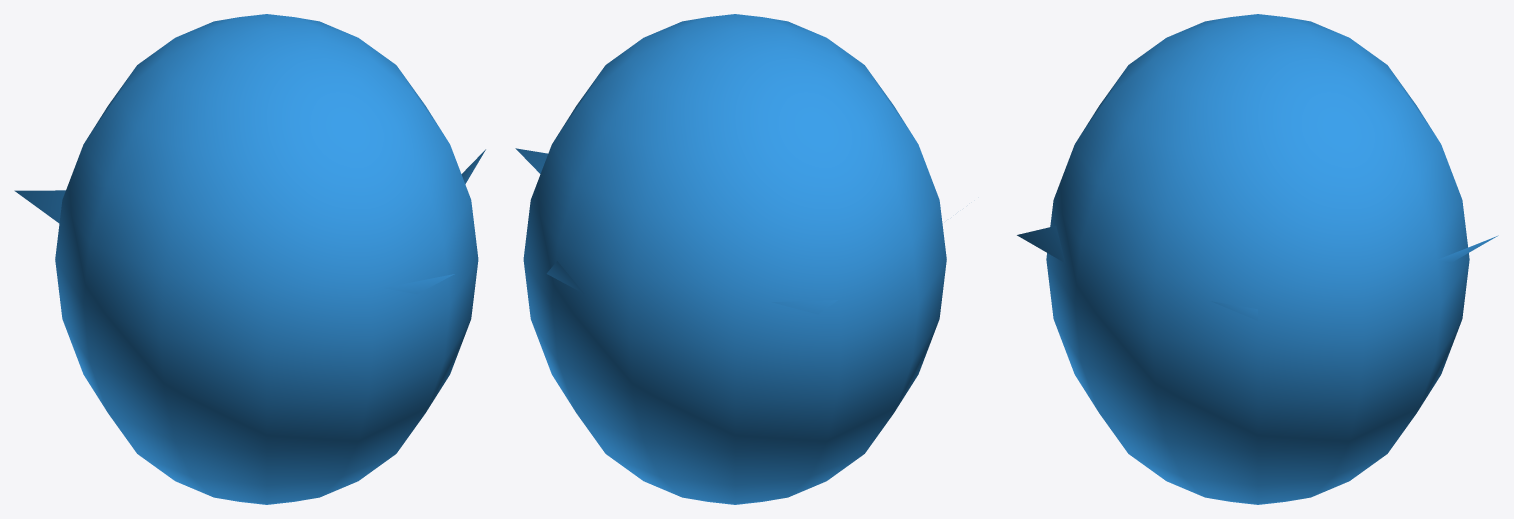
Rendered from Caranguepérola_stage2.obj.
The picture shows the model from 3 angles, left to right: view 1: azimuth 30°, elevation 25°; view 2: azimuth 150°, elevation 25°; view 3: azimuth 270°, elevation 25°; orthographic projection.
Bounding box in the file's own units: 2.2 × 2.4 × 2.28.
